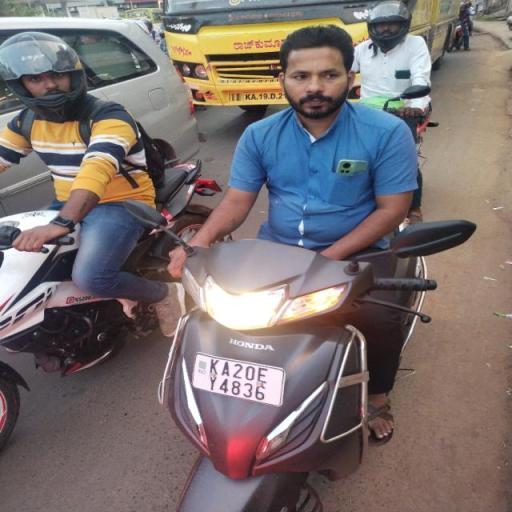bike: (130, 23, 488, 512)
numberplate: (188, 350, 292, 416)
withouthelmet: (282, 28, 350, 114)
